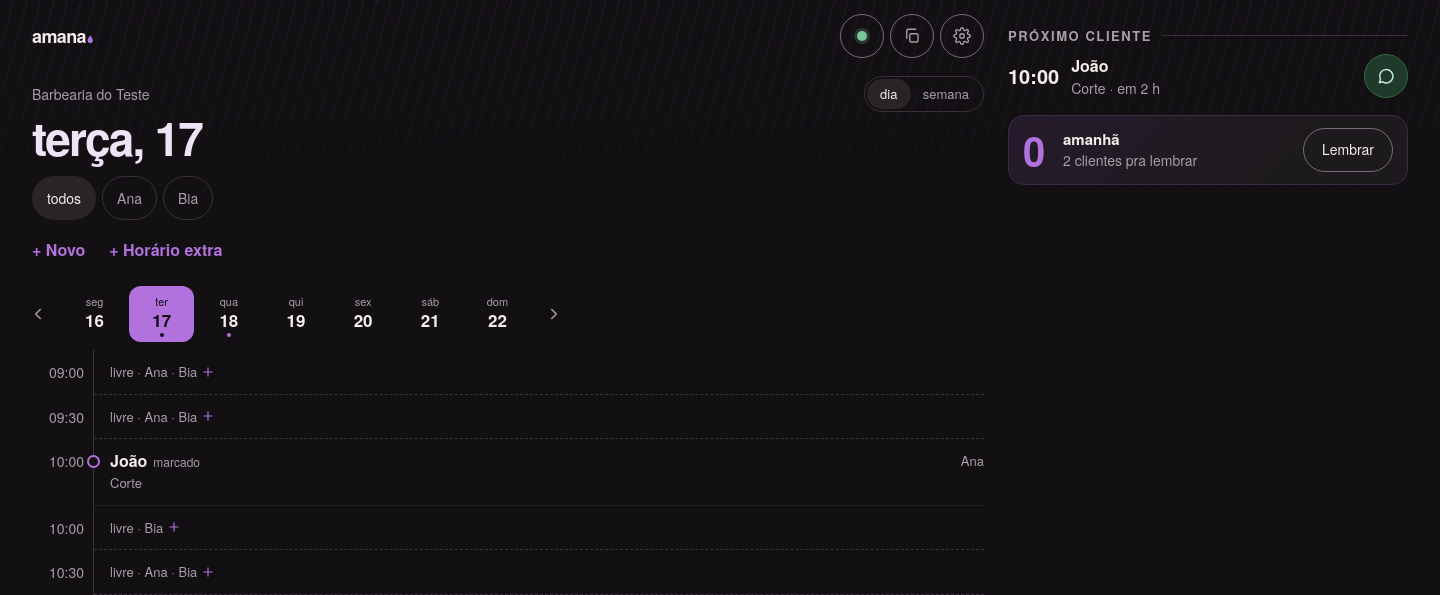
Agenda com duas pessoas › a contagem da semana segue o filtro
Check: the number of buttons named "2 clientes" is 2, box [129,286,194,342]; [196,286,261,342]
Click the button "Bia".
click(188, 198)  # box [163,176,213,220]
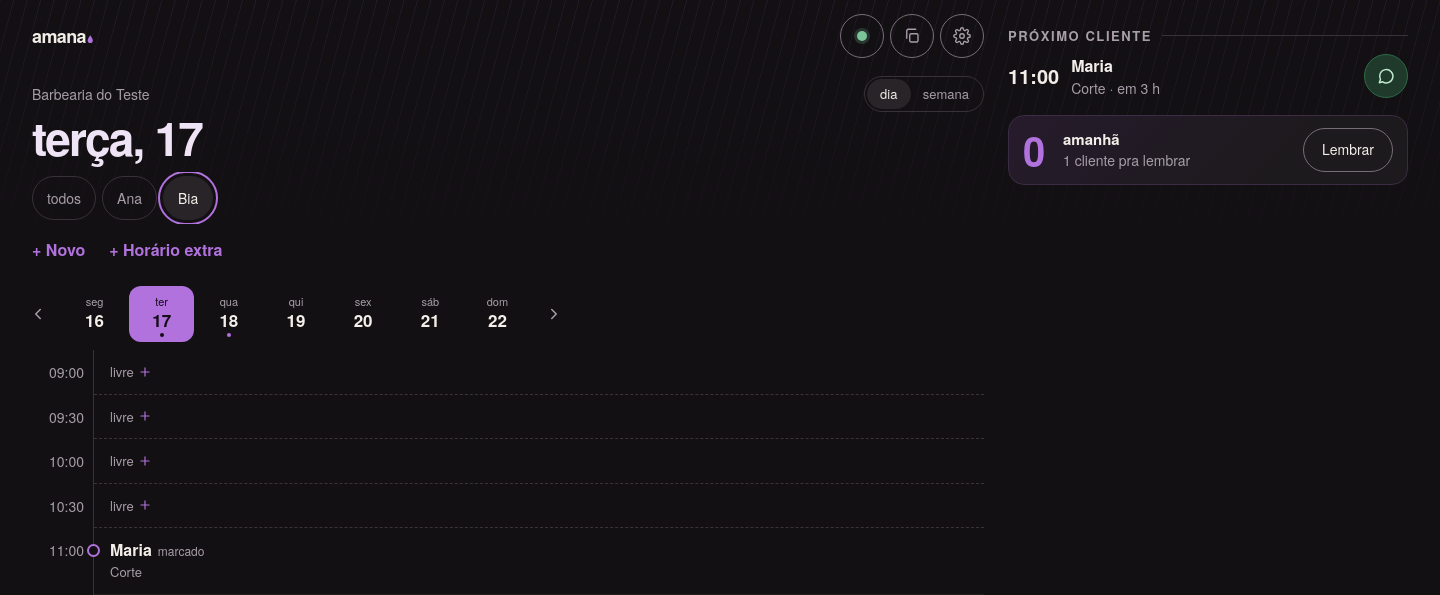
Check: the number of buttons "ter 17" is 2, box [129,286,194,342]; [196,286,261,342]
Check: no elements "2 clientes" are shown
